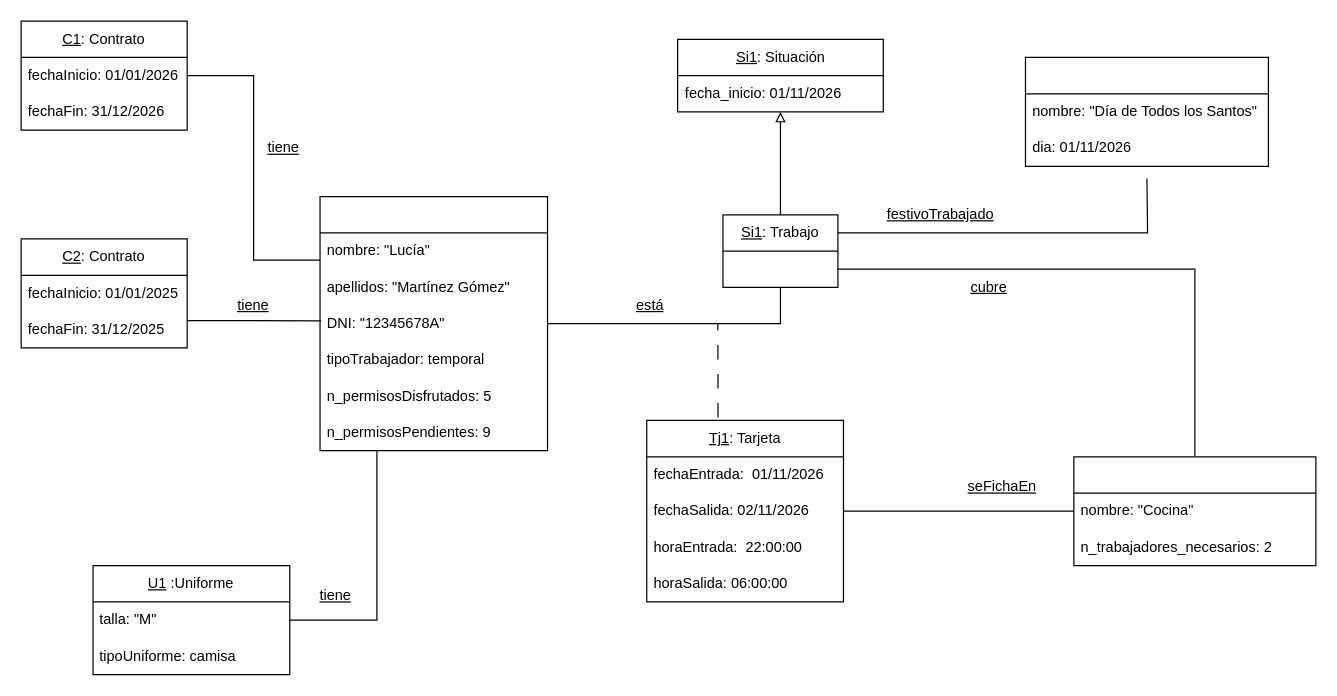
The diagram is 1337 pixels wide and 696 high, and some of its shapes have lost their labels. Each missing label, with the box of its shape:
A1 : Área: (1073, 456, 1316, 566)
F1 : Festivos: (1024, 56, 1268, 166)
T1 : Trabajador: (319, 195, 548, 451)
